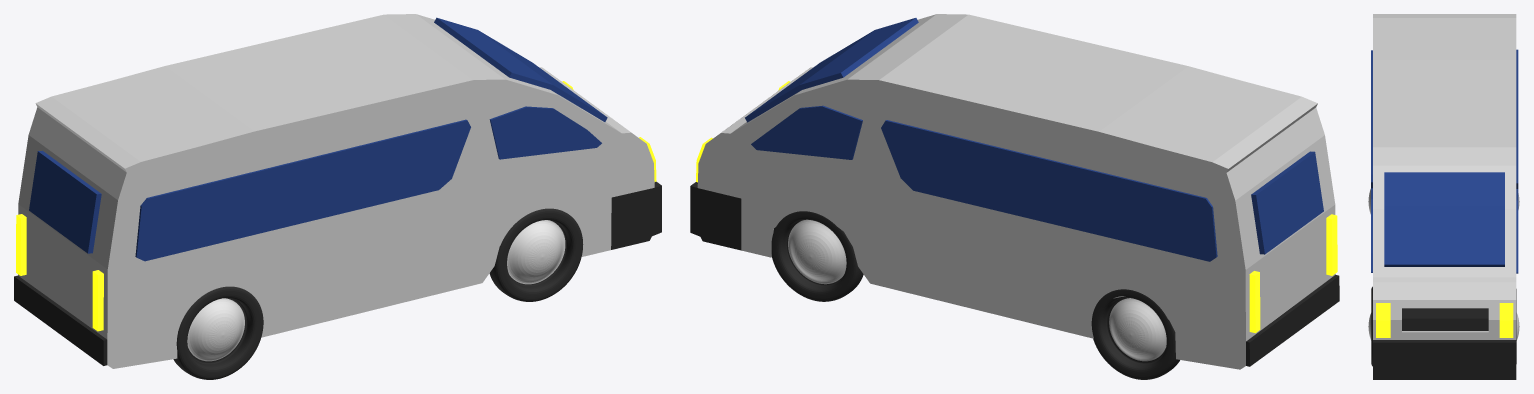
File: Taxi.fbx
The picture shows the model from 3 angles, left to right: view 1: azimuth 30°, elevation 25°; view 2: azimuth 150°, elevation 25°; view 3: azimuth 270°, elevation 25°; orthographic projection. The views are drawn at different scales.
Visible parts, largest first — view 1: Plane, Cylinder.001; view 2: Plane, Cylinder.001; view 3: Plane, Cylinder.001.
Part boxes in pixels (x1,y1,x2,y2): Plane: (14,14,661,368); Cylinder.001: (173,208,583,379); Plane: (690,14,1339,369); Cylinder.001: (771,211,1179,379); Plane: (1371,14,1518,379); Cylinder.001: (1368,189,1519,366).
Bounding box in the file's own units: 557 × 228 × 162.
